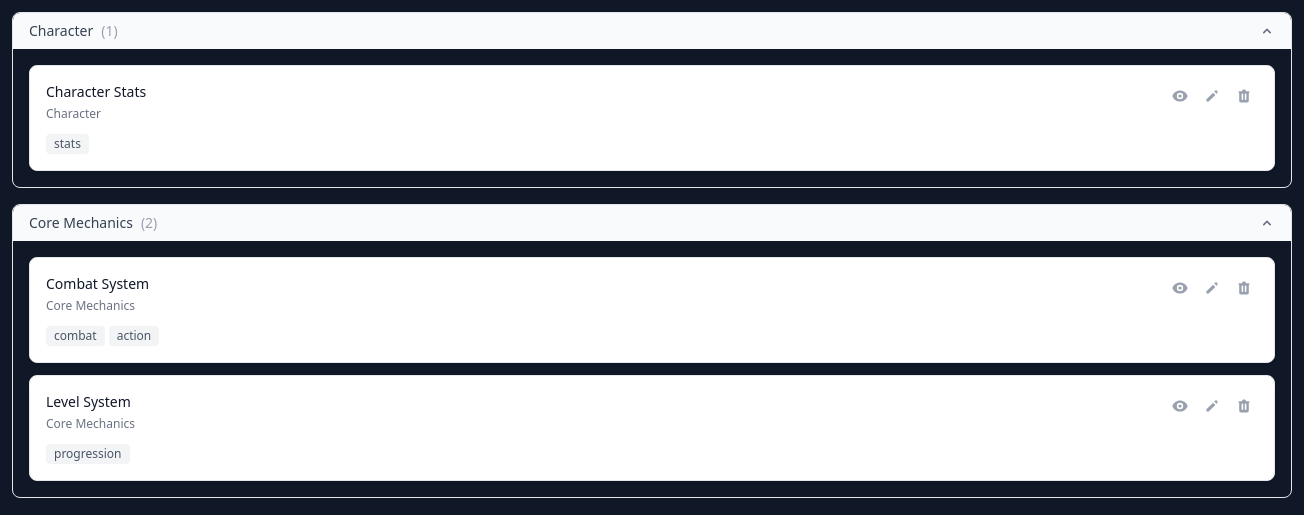
Test case: SystemList › Category Collapse › should collapse category when header clicked
Expected: the heading "Combat System" is shown, [46,274,149,293]
Expected: the heading "Character Stats" is shown, [46,82,146,101]
# Click Core Mechanics category header
Click the button "Core Mechanics(2)". click: click(81, 222)
box: [13,205,1291,241]
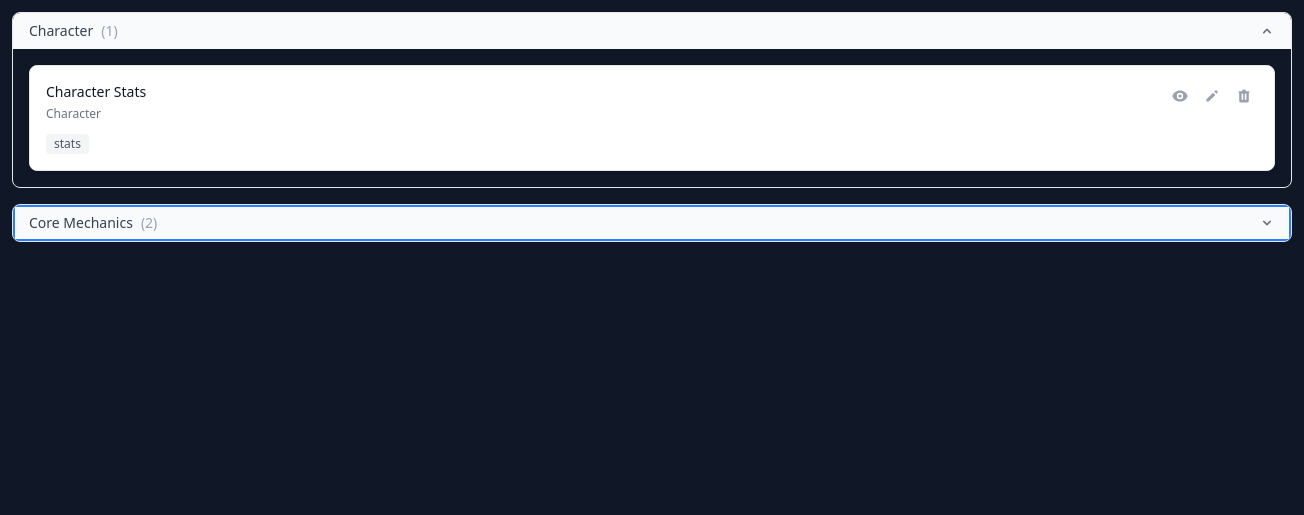
Expected: the heading "Character Stats" is shown, [46,82,146,101]
Now the heading "Combat System" is gone
Now the heading "Level System" is gone
